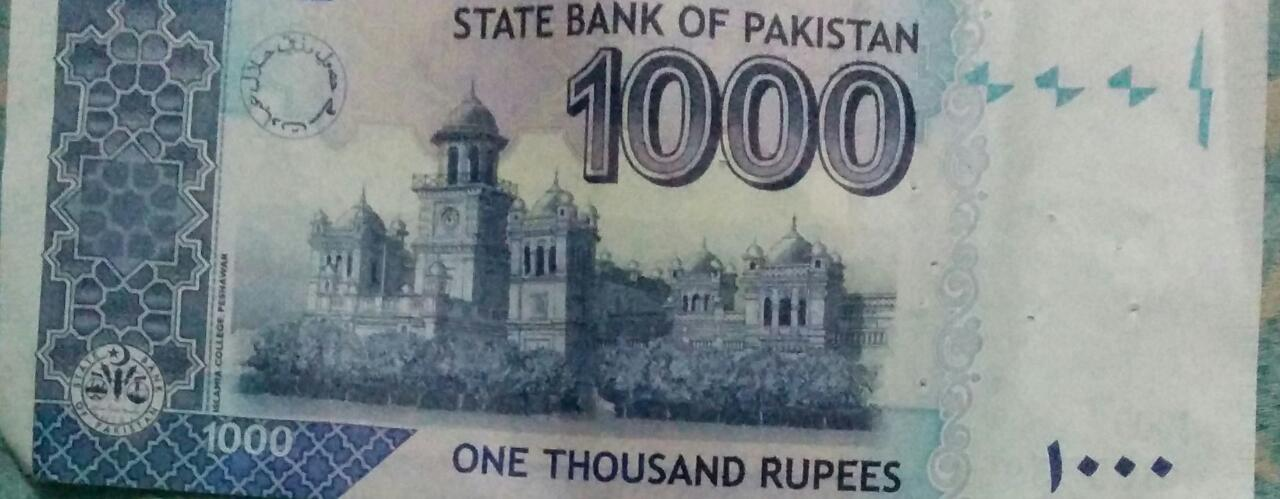1000 rupee: (8, 10, 1274, 499)
